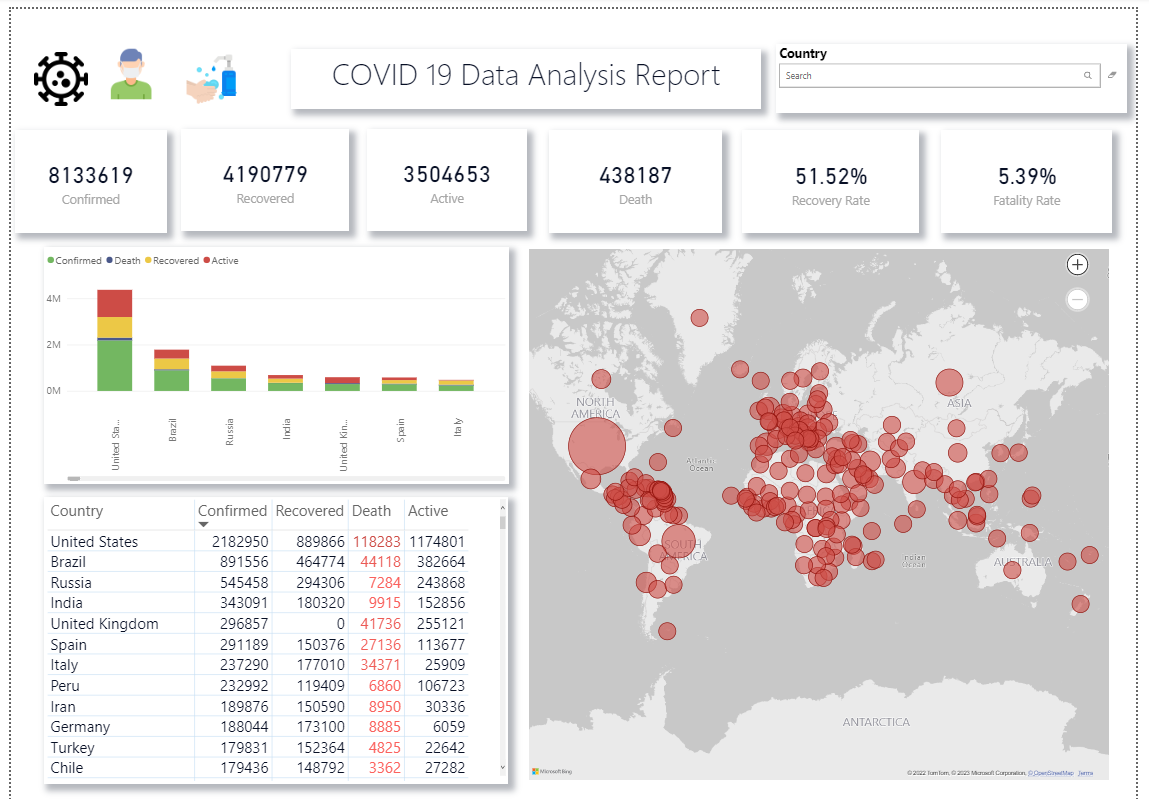

The dashboard page shown, as its layout file describes it:
{"tool":"powerbi","page":{"name":"DataAnalysis Covid","canvas":[1800,1300],"ordinal":0},"visuals":[{"type":"card","fields":{"Values":["Sum(countries.Recovered)"]},"box":[272.7,191.6,269.8,163.6],"z":0},{"type":"card","fields":{"Values":["Sum(countries.Death)"]},"box":[859.5,193.1,278.6,163.6],"z":1000},{"type":"image","box":[32,64,96,96],"z":2000},{"type":"image","box":[144,48,96,112],"z":3000},{"type":"image","box":[272,64,96,96],"z":6000},{"type":"textbox","box":[448,64,752,96],"z":7000},{"type":"card","fields":{"Values":["Sum(countries.Confirmed)"]},"box":[5.9,194.6,243.2,163.6],"z":8000},{"type":"card","fields":{"Values":["Sum(countries.Active)"]},"box":[569,191.6,255,163.6],"z":10000},{"type":"card","fields":{"Values":["countries.Recovery Rate"]},"box":[1169,193.1,283,165.1],"z":11000},{"type":"card","fields":{"Values":["countries.Fatality Rate"]},"box":[1487.5,193.1,274.2,165.1],"z":12000},{"type":"columnChart","fields":{"Category":["countries.Country"],"Y":["Sum(countries.Confirmed)","Sum(countries.Death)","Sum(countries.Recovered)","Sum(countries.Active)"]},"box":[51.6,380.3,744.5,380.3],"z":16000},{"type":"tableEx","fields":{"Values":["countries.Country","Sum(countries.Confirmed)","Sum(countries.Recovered)","Sum(countries.Death)","Sum(countries.Active)"]},"box":[51.6,779.9,744.2,460.4],"z":17000},{"type":"map","fields":{"Category":["countries.Country"],"Size":["Sum(countries.Confirmed)"]},"box":[824.1,380.3,937.6,859.5],"z":18000},{"type":"textFilter25A4896A83E0487089E2B90C9AE57C8A","fields":{"field":["countries.Country"]},"box":[1224.5,55.6,561.6,111.1],"z":19000}]}

Visuals, with their boxes on the page's 1800x1300 design canvas (x1, y1, x2, y2). These are canvas units, not pixel positions in the 1149x799 screenshot, which may show the page scaled, cropped or inside an application window:
card - Sum(countries.Recovered): 273/192/542/355
card - Sum(countries.Death): 860/193/1138/357
image: 32/64/128/160
image: 144/48/240/160
image: 272/64/368/160
textbox: 448/64/1200/160
card - Sum(countries.Confirmed): 6/195/249/358
card - Sum(countries.Active): 569/192/824/355
card - countries.Recovery Rate: 1169/193/1452/358
card - countries.Fatality Rate: 1488/193/1762/358
columnChart - countries.Country x Sum(countries.Confirmed): 52/380/796/761
tableEx - countries.Country x Sum(countries.Confirmed): 52/780/796/1240
map - countries.Country x Sum(countries.Confirmed): 824/380/1762/1240
textFilter25A4896A83E0487089E2B90C9AE57C8A - countries.Country: 1224/56/1786/167
